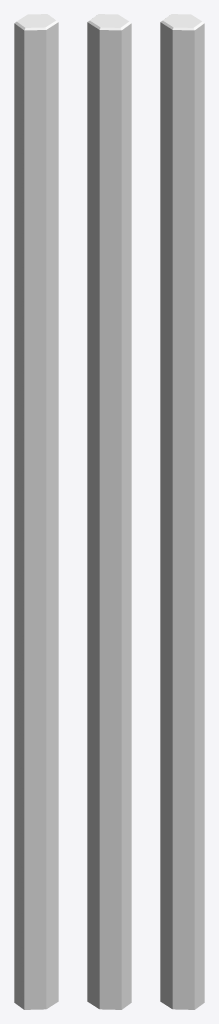
The picture shows the model from 3 angles, left to right: view 1: azimuth 30°, elevation 25°; view 2: azimuth 150°, elevation 25°; view 3: azimuth 330°, elevation 25°; orthographic projection.
Parts seen in each view (by area): view 1: Цилиндр; view 2: Цилиндр; view 3: Цилиндр.
Boxes of the visible parts, x1,y1,x2,y2 form: Цилиндр: [14, 14, 58, 1009]; Цилиндр: [87, 14, 131, 1009]; Цилиндр: [160, 14, 204, 1009].
Bounding box in the file's own units: 101 × 2760 × 101.
Materials: 1 (1 with a texture image).
